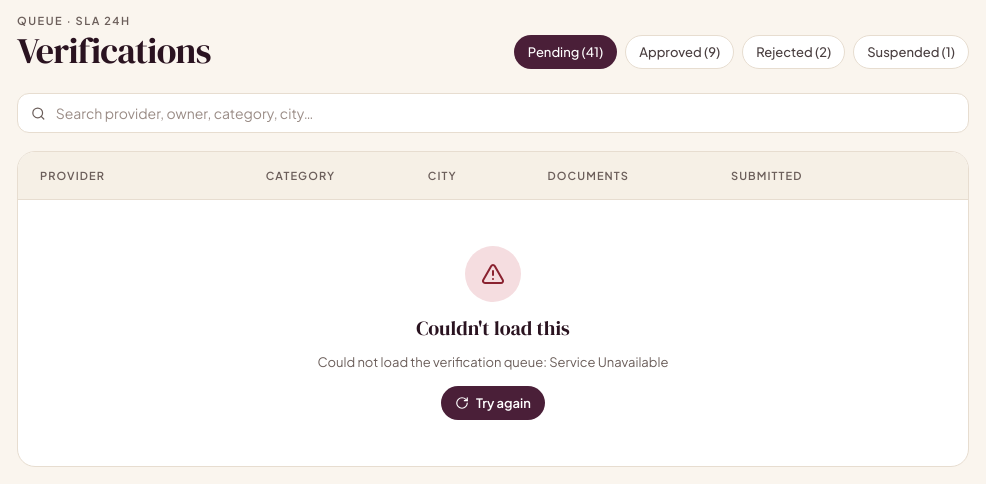
it: <Verifications> - server paging › a failed page shows an error with a retry, never an empty queue
expect the text "Could not load the verification queue: Service Unavailable" is shown: met, box [318,352,668,372]
Step 1. Click the button "Try again" → [493, 403], box [441,386,545,420]
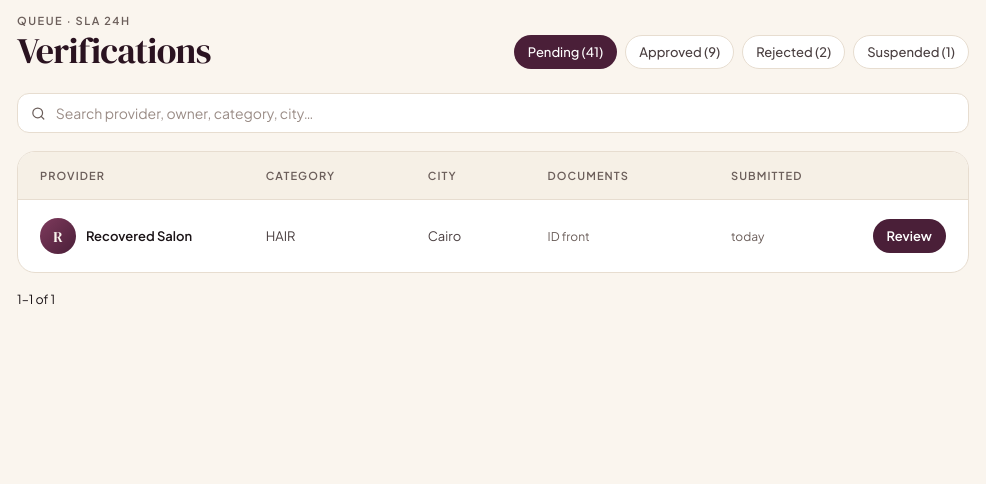
expect the text "Recovered Salon" is shown: met, box [86,228,192,244]
